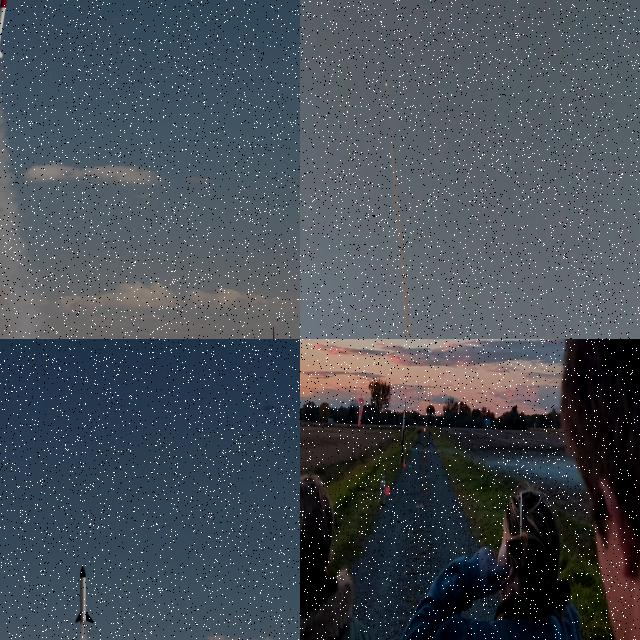Rocket: (75, 565, 94, 624), (0, 0, 8, 59), (401, 408, 405, 446), (385, 82, 387, 86)
